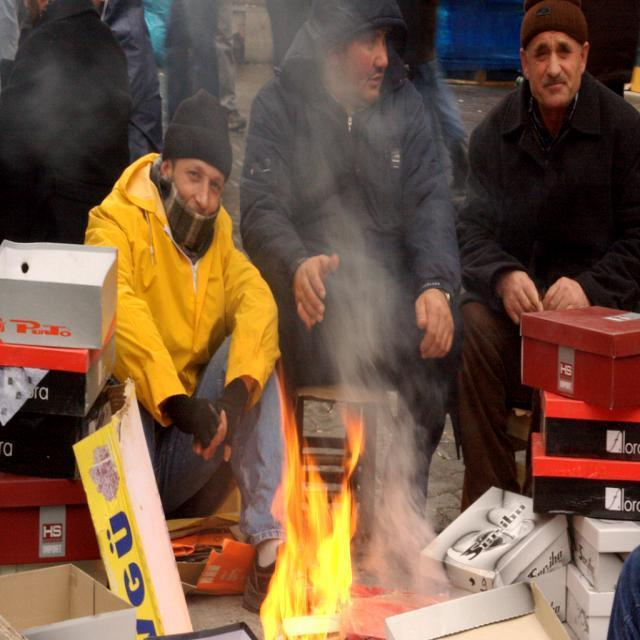Fire: (260, 376, 378, 639)
Smoke: (222, 1, 479, 377)
